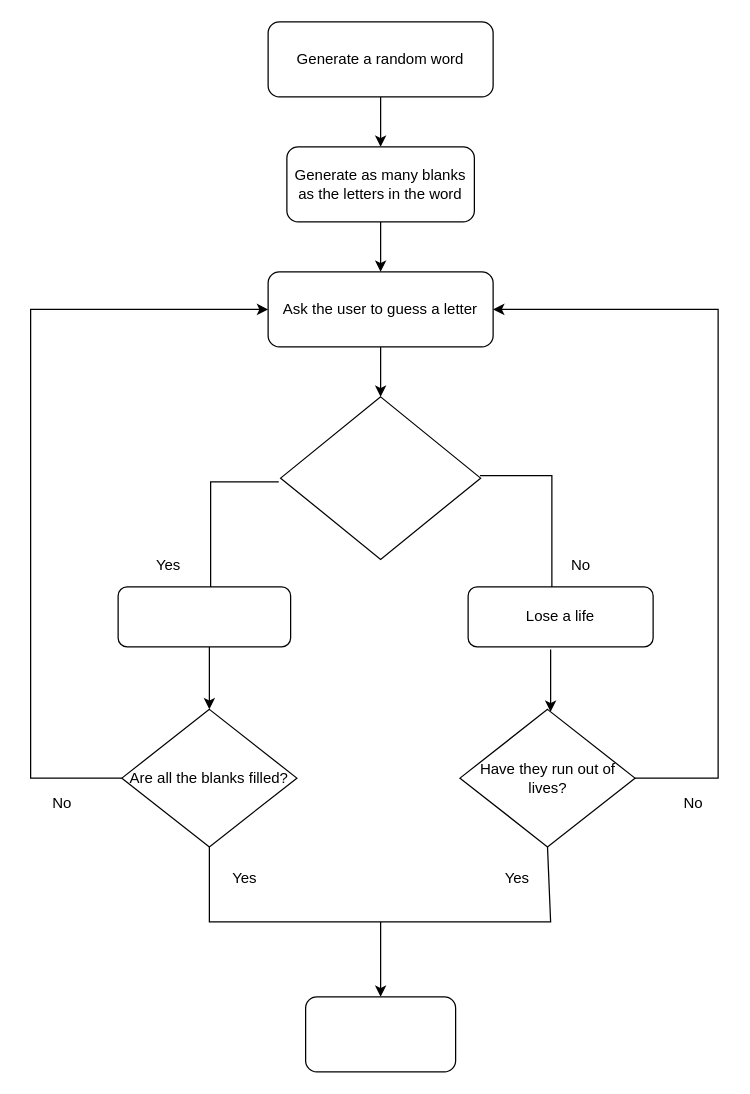
Some shapes in this 750 by 1094 pixel diagram are drawn without their labels. Each missing label, with the box of its shape:
Game Over: (304, 996, 456, 1072)
Is the guessed letter in the word?: (279, 396, 481, 559)
Replace the blank with the letter: (117, 586, 291, 647)
